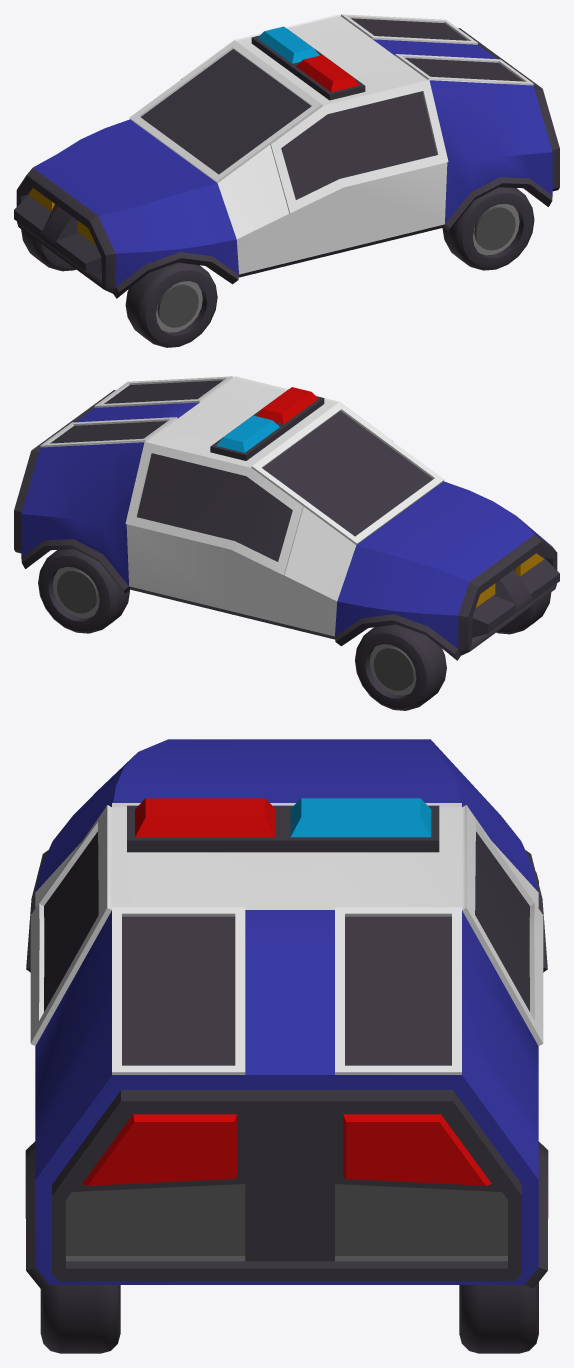
File: Car2.fbx
3 renders of one model, top to bottom at view 1: azimuth 30°, elevation 25°; view 2: azimuth 150°, elevation 25°; view 3: azimuth 270°, elevation 25°, orthographic. The views are drawn at different scales.
Parts seen in each view (by area): view 1: car2; view 2: car2; view 3: car2.
Part boxes in pixels (x1,y1,x2,y2): car2: [14, 14, 559, 347]; car2: [14, 376, 559, 710]; car2: [25, 739, 548, 1353].
Bounding box in the file's own units: 440 × 192 × 220.
